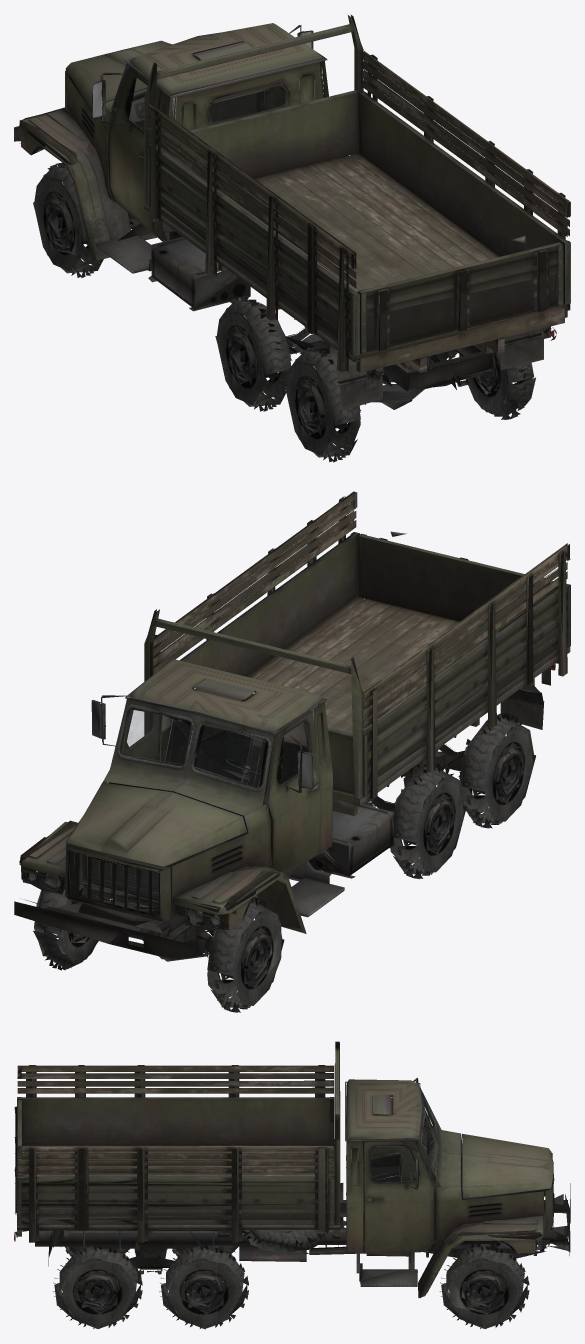
Rendered from type_eq240.glb.
The picture shows the model from 3 angles, top to bottom: view 1: azimuth 30°, elevation 25°; view 2: azimuth 150°, elevation 25°; view 3: azimuth 270°, elevation 25°; orthographic projection. The views are drawn at different scales.
Parts seen in each view (by area): view 1: Object_3, Object_4, Object_10, Object_5; view 2: Object_3, Object_4, Object_10, Object_5, Object_2; view 3: Object_3, Object_4, Object_10, Object_5, Object_2.
Part boxes in pixels (box(x1,y1,x2,y2)): Object_3: box(144, 15, 570, 410); Object_4: box(19, 23, 328, 273); Object_10: box(33, 162, 535, 462); Object_5: box(14, 126, 493, 412); Object_3: box(144, 491, 570, 815); Object_4: box(19, 659, 344, 933); Object_10: box(33, 713, 535, 1012); Object_5: box(14, 735, 470, 961); Object_2: box(29, 708, 308, 925); Object_3: box(14, 1041, 340, 1266); Object_4: box(345, 1077, 554, 1297); Object_10: box(53, 1230, 529, 1329); Object_5: box(22, 1183, 570, 1278); Object_2: box(371, 1096, 437, 1181).
Size of the model in its own units: 2.49 by 2.97 by 6.9.
6 materials, 6 textured.
